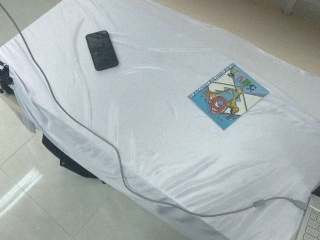book: (188, 63, 270, 131)
phone: (85, 30, 119, 71)
